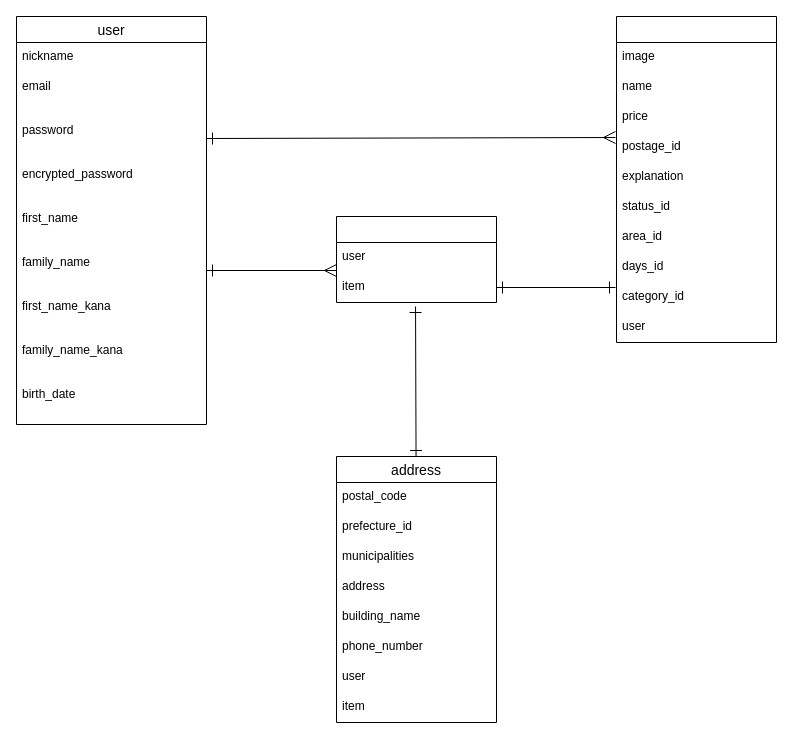
This 793x739 diagram has some shape labels left out. Each missing label, with the box of its shape:
items: (616, 16, 776, 342)
purchaces: (336, 216, 496, 302)
